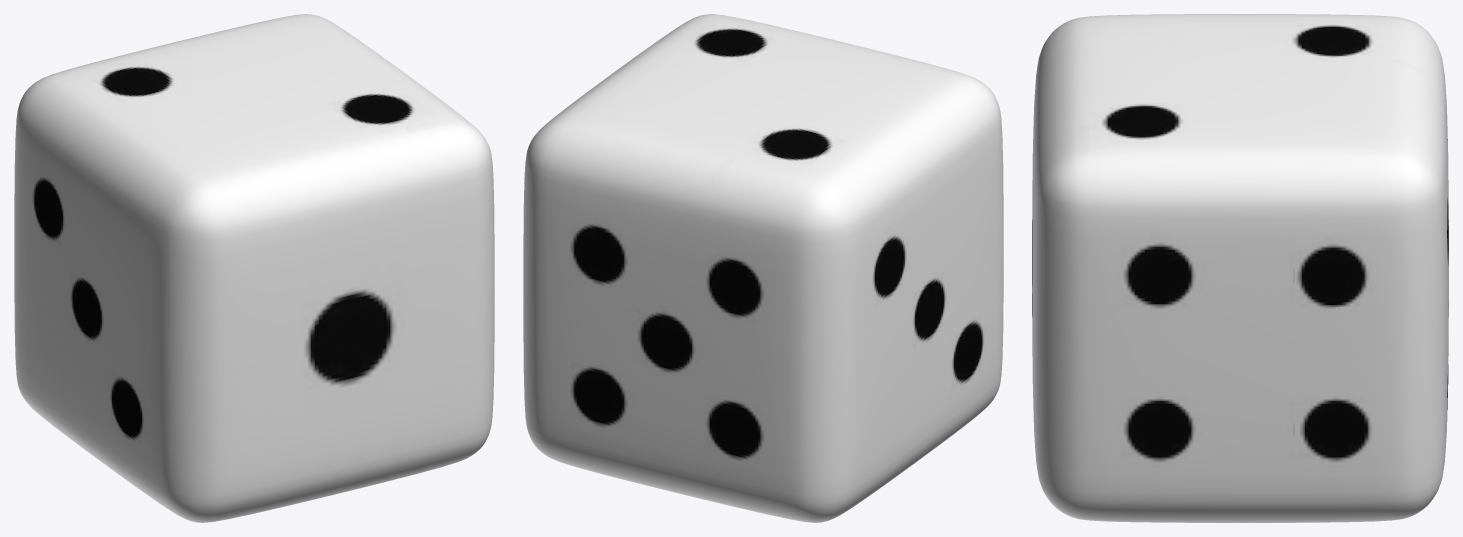
The model's file is dado_obj.glb.
3 renders of one model, left to right at view 1: azimuth 30°, elevation 25°; view 2: azimuth 150°, elevation 25°; view 3: azimuth 270°, elevation 25°, orthographic. The views are drawn at different scales.
Parts seen in each view (by area): view 1: Object_2; view 2: Object_2; view 3: Object_2.
Part boxes in pixels (box(x1,y1,x2,y2)): Object_2: box(14, 14, 494, 522); Object_2: box(523, 14, 1003, 522); Object_2: box(1032, 14, 1448, 522).
Bounding box in the file's own units: 1.23 × 1.23 × 1.23.
1 material, 1 textured.
